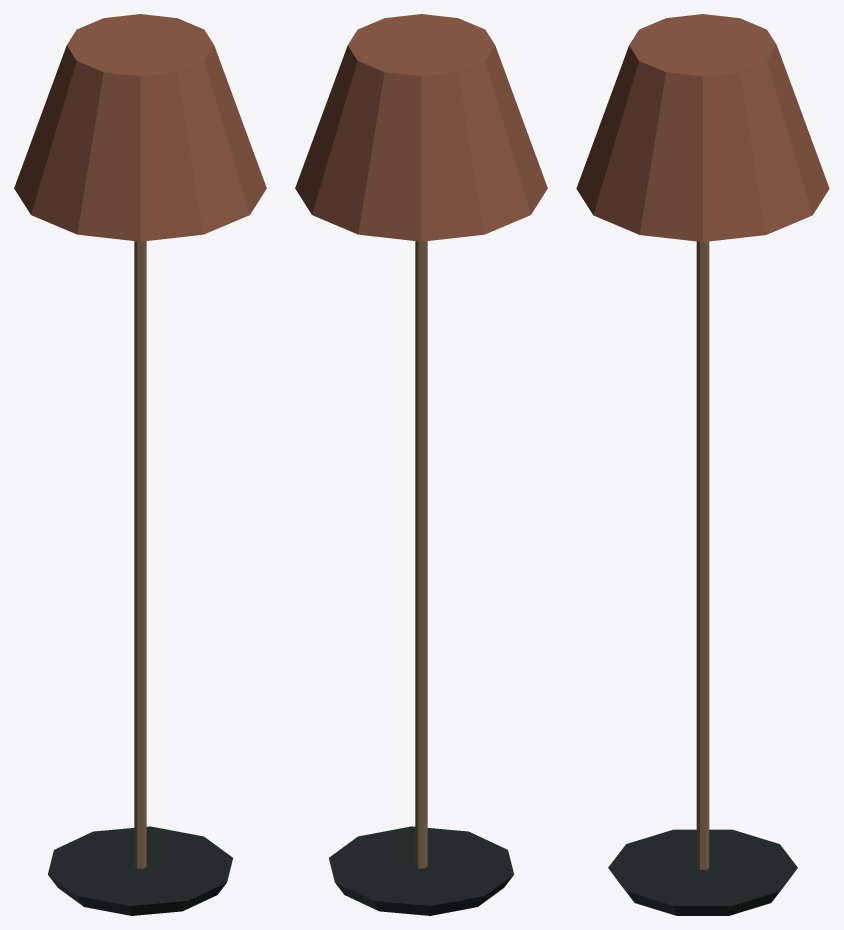
The model's file is lampadar.glb.
3 renders of one model, left to right at view 1: azimuth 30°, elevation 25°; view 2: azimuth 150°, elevation 25°; view 3: azimuth 270°, elevation 25°, orthographic.
Parts seen in each view (by area): view 1: Abajur, Lampadar; view 2: Abajur, Lampadar; view 3: Abajur, Lampadar.
Part boxes in pixels (x1,y1,x2,y2): Abajur: (14, 14, 266, 241); Lampadar: (48, 241, 232, 915); Abajur: (295, 14, 547, 241); Lampadar: (329, 241, 513, 915); Abajur: (576, 14, 829, 241); Lampadar: (608, 241, 797, 915).
Size of the model in its own units: 0.48 by 1.75 by 0.48.
